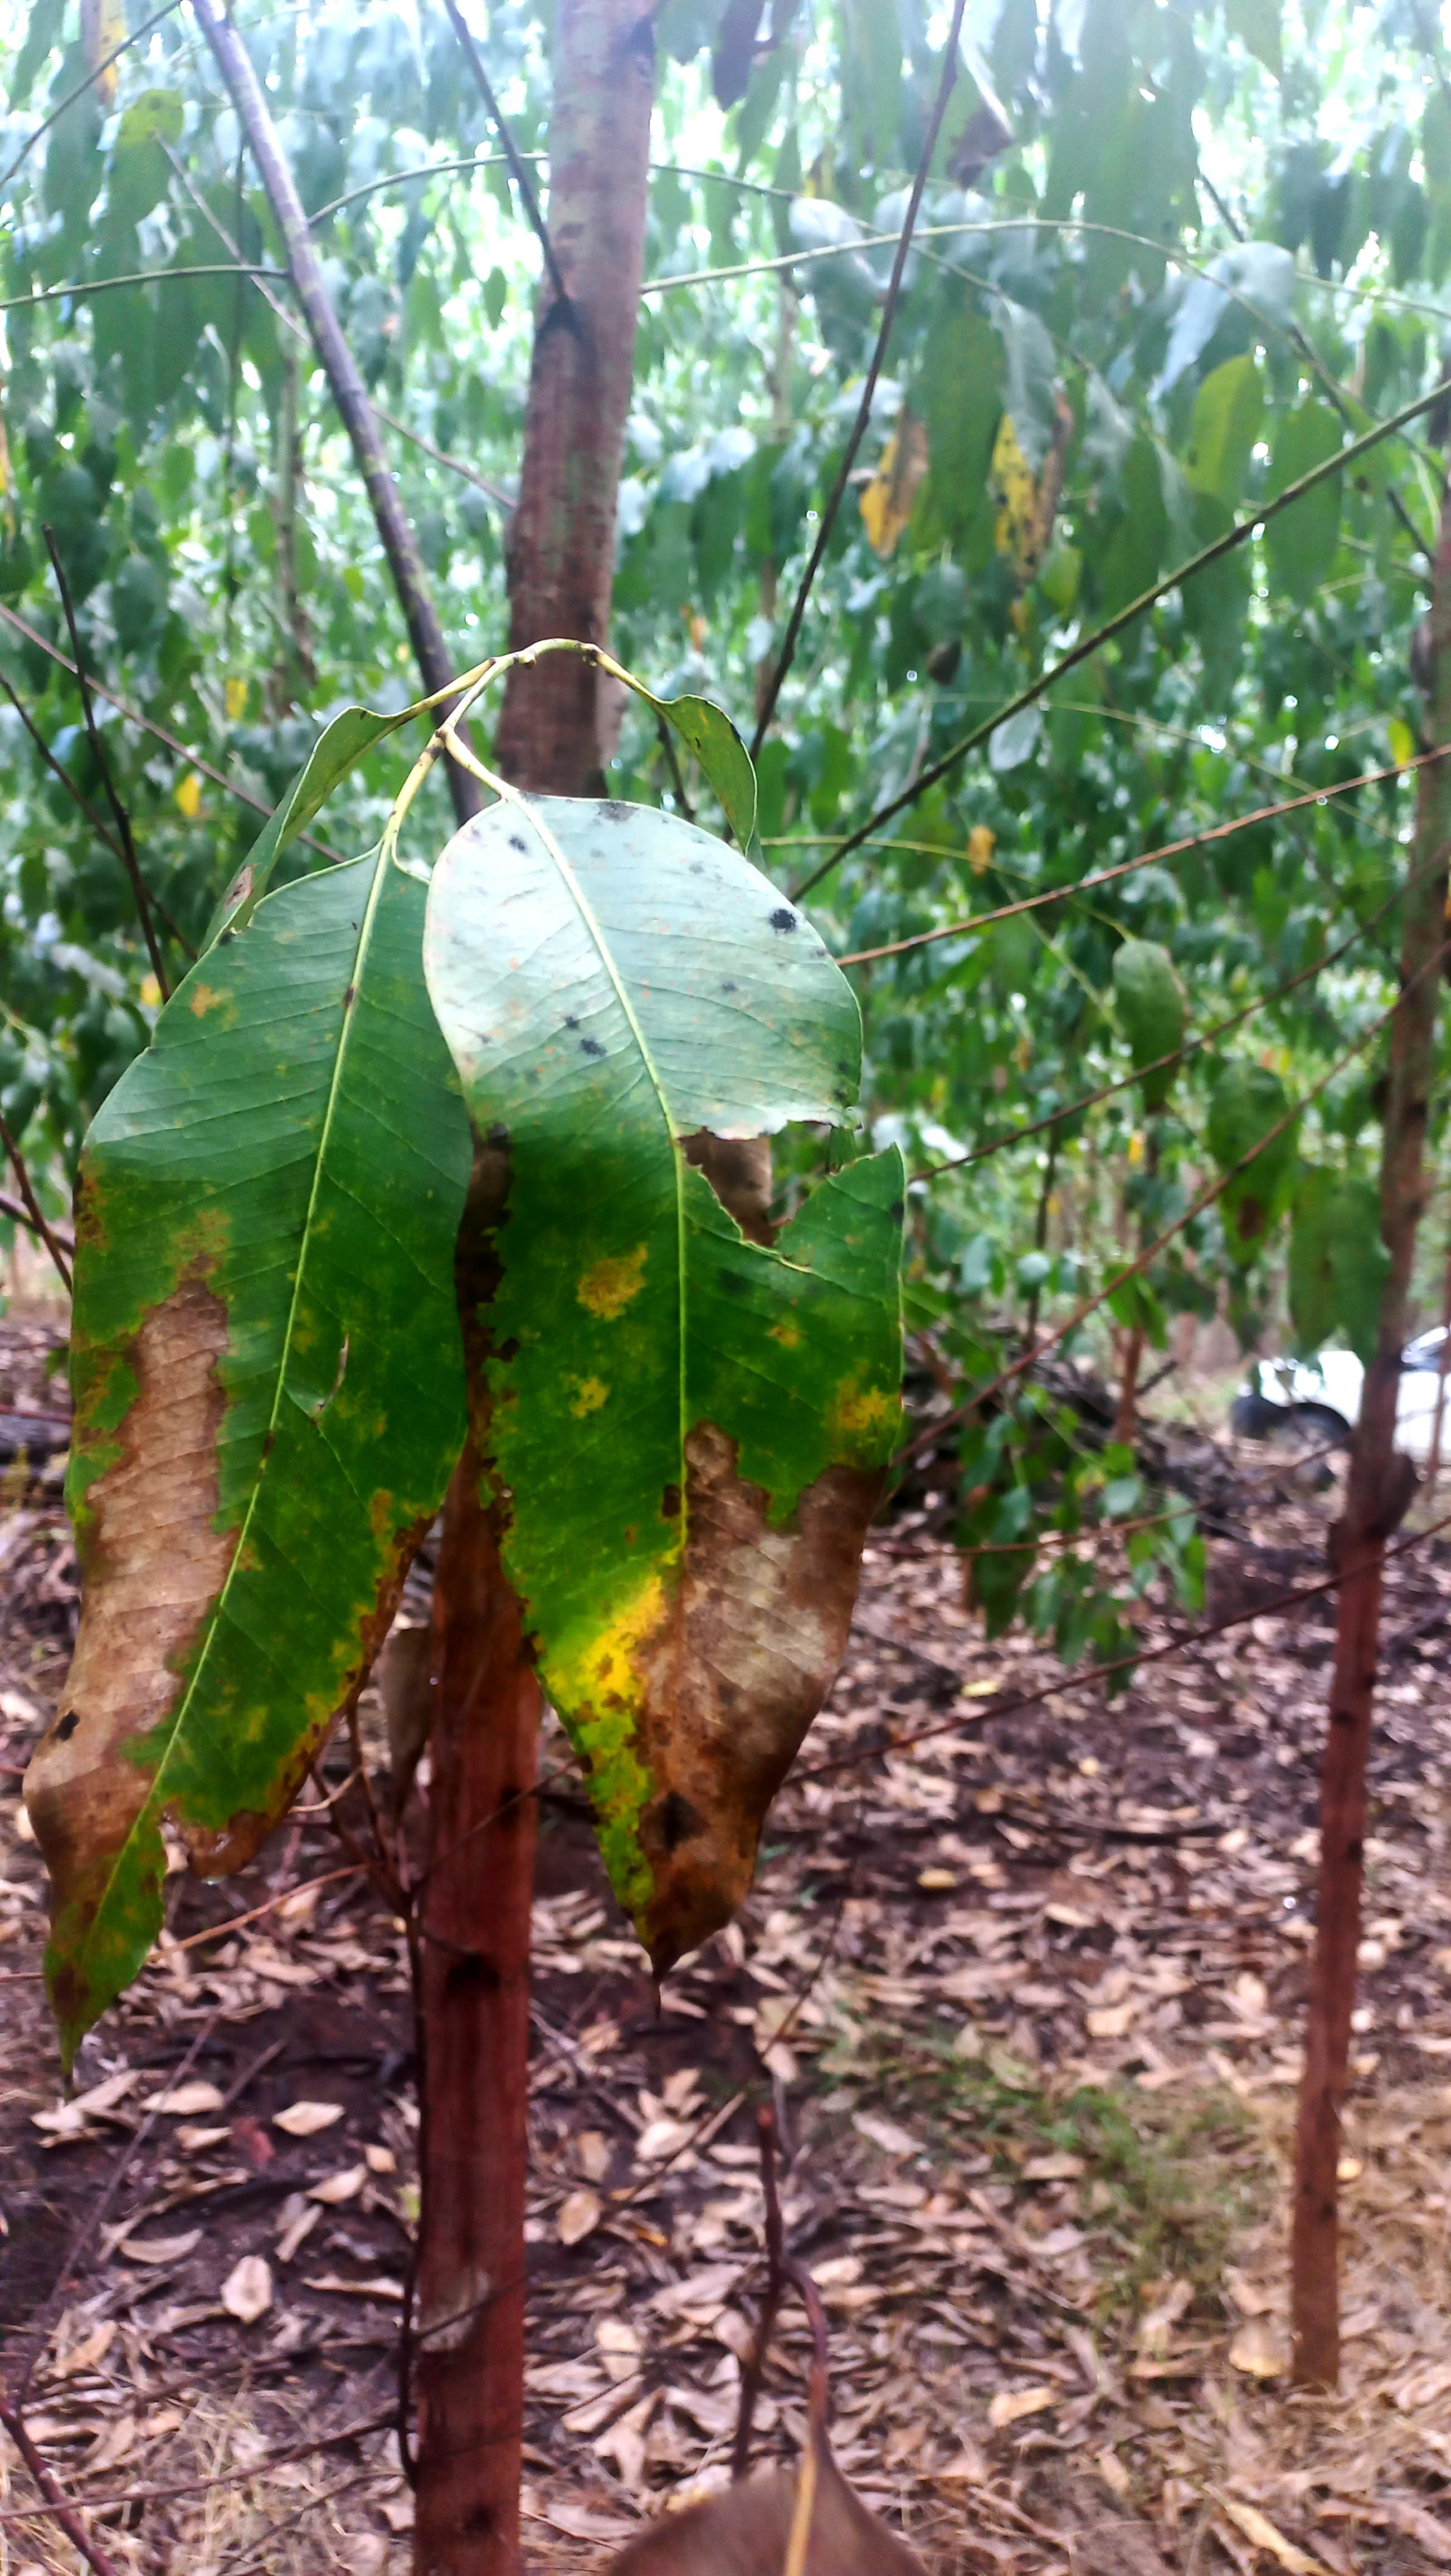Cylindrocladium: (0, 1277, 244, 1990), (630, 1424, 881, 1964)
